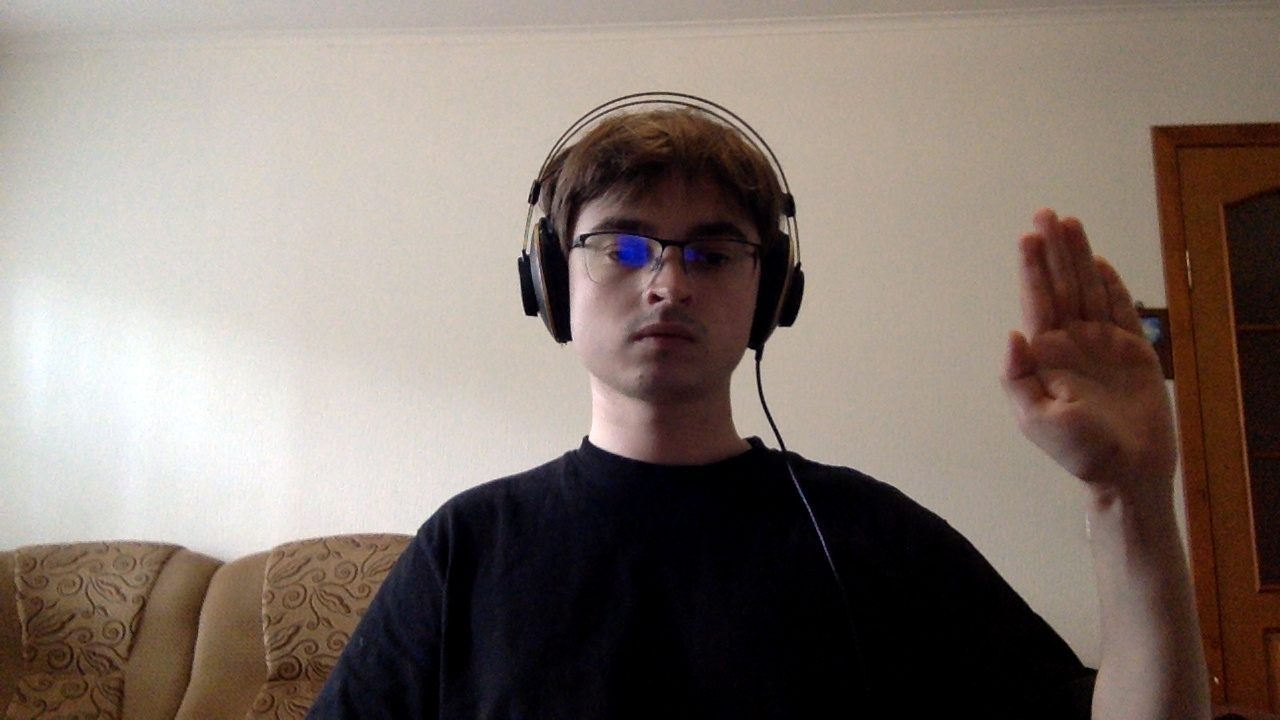hello: (951, 193, 1237, 519)
